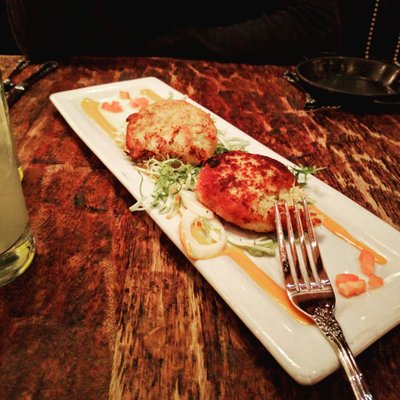burger: (274, 196, 376, 400)
